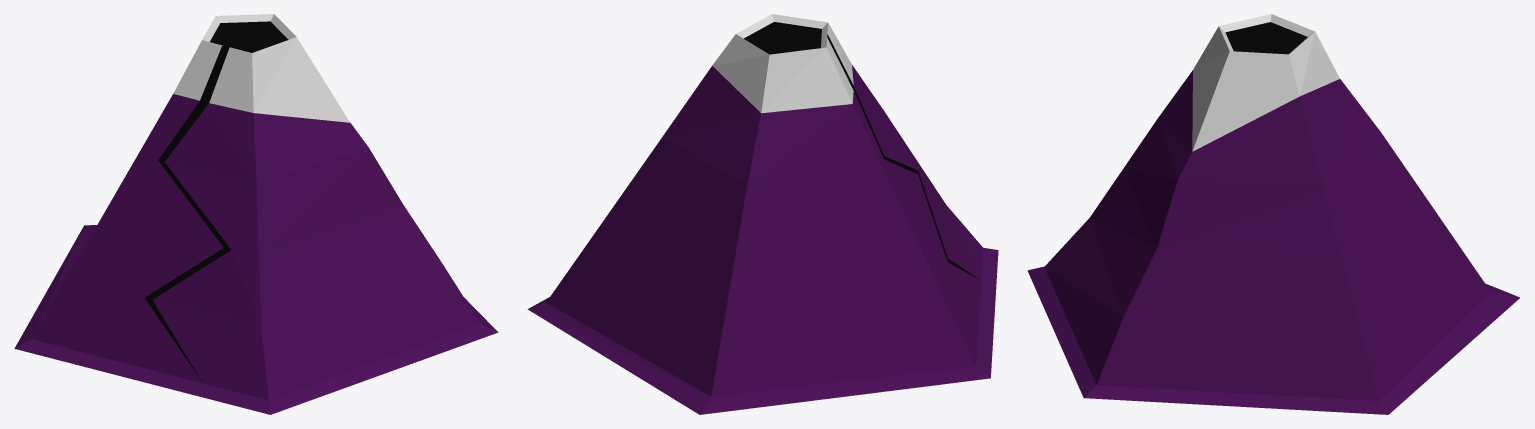
Rendered from Model_Volcano.fbx.
3 renders of one model, left to right at view 1: azimuth 30°, elevation 25°; view 2: azimuth 150°, elevation 25°; view 3: azimuth 270°, elevation 25°, orthographic. The views are drawn at different scales.
Parts seen in each view (by area): view 1: Cone003; view 2: Cone003; view 3: Cone003.
Boxes of the visible parts, left/top/right/bottom form: Cone003: left=14, top=14, right=498, bottom=414; Cone003: left=527, top=14, right=998, bottom=414; Cone003: left=1027, top=14, right=1519, bottom=414.
Size of the model in its own units: 27084 by 17221 by 27317.
